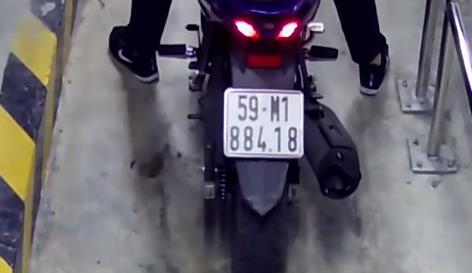lisence: (223, 87, 304, 158)
